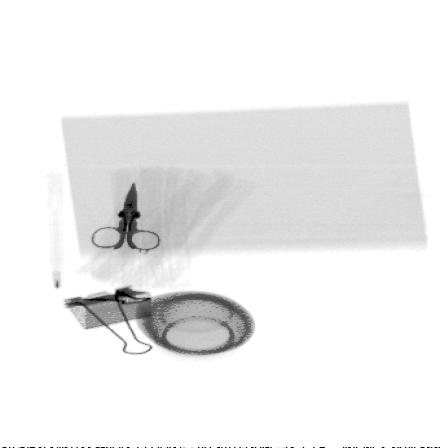Scissors: (91, 179, 162, 251)
